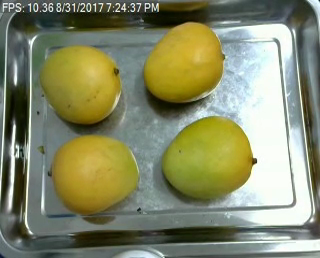Mango: (160, 116, 252, 201), (48, 134, 139, 215), (142, 20, 224, 104), (38, 45, 120, 125)
